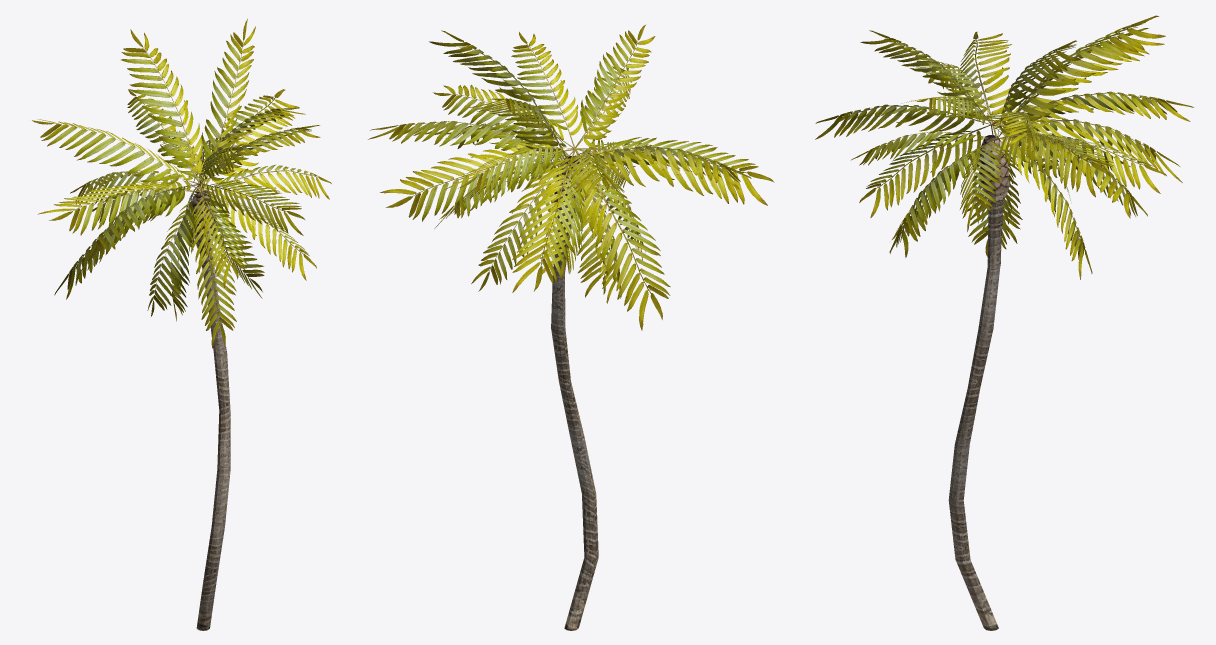
The model's file is mad_drive_escombros_palmera.dae.
3 views of the same model, side by side, from view 1: azimuth 30°, elevation 25°; view 2: azimuth 150°, elevation 25°; view 3: azimuth 270°, elevation 25° (orthographic). The views are drawn at different scales.
Parts seen in each view (by area): view 1: palmera; view 2: palmera; view 3: palmera.
Part boxes in pixels (box(x1,y1,x2,y2)): palmera: box(32, 19, 331, 630); palmera: box(368, 25, 774, 630); palmera: box(815, 15, 1193, 630).
Size of the model in its own units: 27.39 by 46.74 by 26.15.
1 material, 1 textured.
